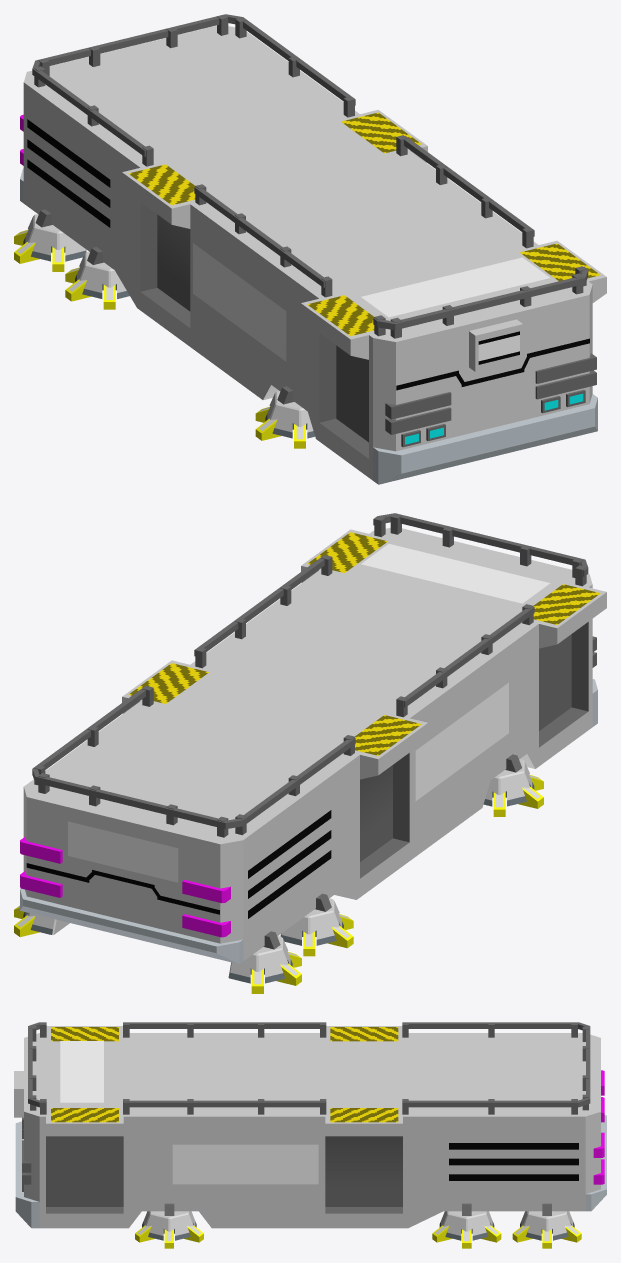
File: vehicle_bus_hover_flattop.fbx
3 views of the same model, one above another, from view 1: azimuth 30°, elevation 25°; view 2: azimuth 150°, elevation 25°; view 3: azimuth 270°, elevation 25° (orthographic). The views are drawn at different scales.
Visible parts, largest first — view 1: vehicle_bus_hover_flattop, railing (×2), text_signs, warnings (×2), grill (×2), slats, sign2, hoverjet_base1, hoverjet_base2, hoverjet_base3, deets, hoverjet_rockets2 (+2 smaller); view 2: vehicle_bus_hover_flattop, text_signs, railing (×2), warnings (×2), taillights (×2), slats, hoverjet_base1, hoverjet_base2, hoverjet_base3, deets, hoverjet_rockets2, hoverjet_rockets3 (+1 smaller); view 3: vehicle_bus_hover_flattop, text_signs, railing (×2), warnings (×2), slats, hoverjet_base2, hoverjet_base3, hoverjet_base1, hoverjet_rockets2, hoverjet_rockets1, hoverjet_rockets3, sign2 (+1 smaller).
Part boxes in pixels (x1,y1,x2,y2): vehicle_bus_hover_flattop: [20, 25, 606, 484]; railing (×2): [32, 14, 588, 338]; text_signs: [193, 243, 549, 361]; warnings (×2): [128, 112, 600, 336]; grill (×2): [385, 353, 596, 434]; slats: [27, 119, 110, 227]; sign2: [469, 319, 522, 371]; hoverjet_base1: [23, 214, 86, 261]; hoverjet_base2: [75, 251, 129, 298]; hoverjet_base3: [265, 391, 314, 438]; deets: [396, 338, 589, 390]; hoverjet_rockets2: [65, 267, 115, 309]; vehicle_bus_hover_flattop: [20, 528, 606, 964]; text_signs: [68, 544, 549, 882]; railing (×2): [32, 513, 588, 837]; warnings (×2): [128, 532, 600, 755]; taillights (×2): [20, 837, 230, 937]; slats: [248, 810, 331, 918]; hoverjet_base1: [228, 936, 292, 983]; hoverjet_base2: [280, 898, 343, 945]; hoverjet_base3: [483, 759, 534, 806]; deets: [26, 863, 219, 914]; hoverjet_rockets2: [303, 914, 353, 956]; hoverjet_rockets3: [493, 774, 543, 816]; vehicle_bus_hover_flattop: [15, 1026, 606, 1228]; text_signs: [60, 1041, 318, 1184]; railing (×2): [28, 1022, 590, 1114]; warnings (×2): [51, 1027, 398, 1122]; slats: [449, 1143, 578, 1180]; hoverjet_base2: [439, 1211, 494, 1240]; hoverjet_base3: [142, 1211, 196, 1240]; hoverjet_base1: [520, 1211, 574, 1240]; hoverjet_rockets2: [432, 1225, 501, 1248]; hoverjet_rockets1: [512, 1225, 581, 1248]; hoverjet_rockets3: [135, 1225, 203, 1248]; sign2: [14, 1071, 23, 1117].
Size of the model in its own units: 685 by 395 by 1596.
10 materials, 2 textured.
